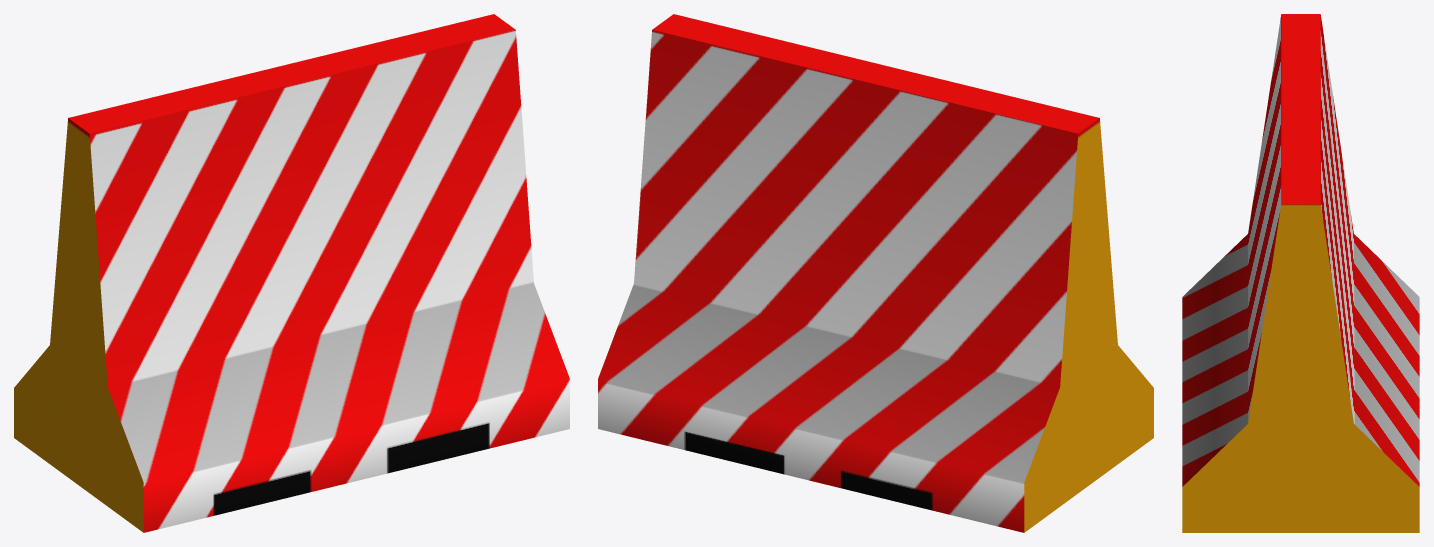
File: fence003.fbx
3 views of the same model, side by side, from view 1: azimuth 30°, elevation 25°; view 2: azimuth 150°, elevation 25°; view 3: azimuth 270°, elevation 25° (orthographic). The views are drawn at different scales.
Parts seen in each view (by area): view 1: TODOS:bolsaBasura:triangulo1:pCube1; view 2: TODOS:bolsaBasura:triangulo1:pCube1; view 3: TODOS:bolsaBasura:triangulo1:pCube1.
Boxes of the visible parts, box(x1,y1,x2,y2) form: TODOS:bolsaBasura:triangulo1:pCube1: box(14, 14, 569, 532); TODOS:bolsaBasura:triangulo1:pCube1: box(598, 14, 1153, 532); TODOS:bolsaBasura:triangulo1:pCube1: box(1182, 14, 1419, 532).
Size of the model in its own units: 3.13 by 2.52 by 1.65.
